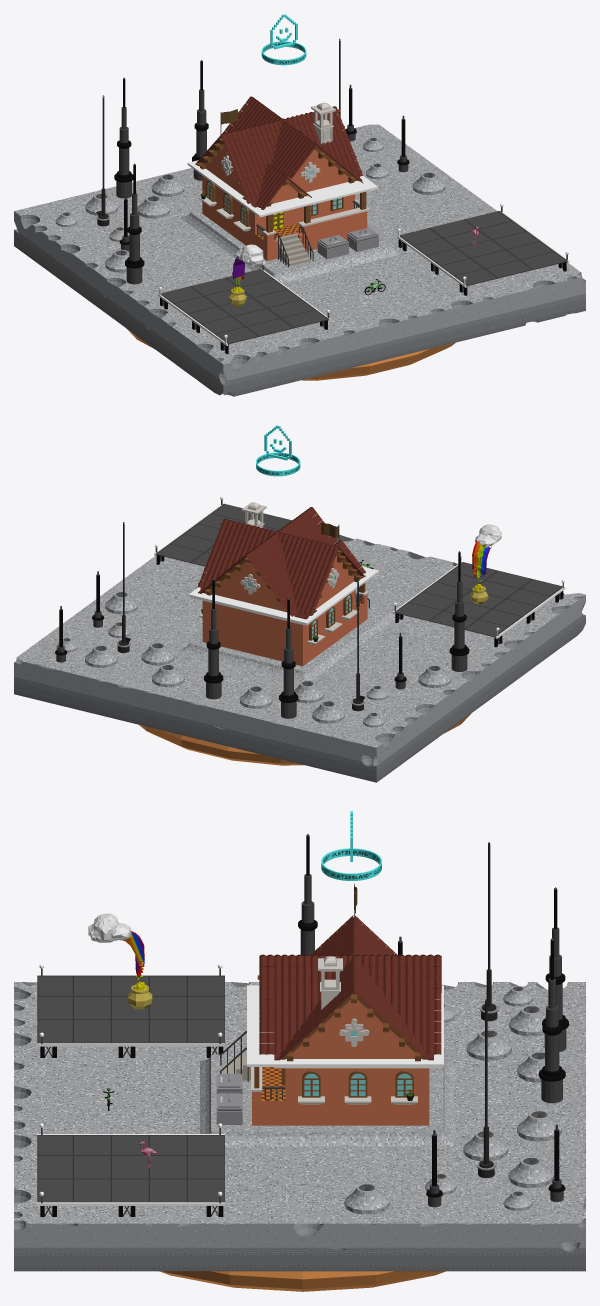
3 renders of one model, top to bottom at view 1: azimuth 30°, elevation 25°; view 2: azimuth 150°, elevation 25°; view 3: azimuth 270°, elevation 25°, orthographic. The views are drawn at different scales.
Parts seen in each view (by area): view 1: Cube.027, Cube.1141, Cube.026, Cube.025, Cube.028, UNDERGROUND_PIZZA, Cylinder.021, Cylinder.020, OBJRANDOM_RAINBOW, TYPE_PREMIUM, Cylinder.017, Cube.029 (+5 smaller); view 2: Cube.027, Cube.1141, Cube.025, Cube.028, Cube.026, UNDERGROUND_PIZZA, OBJRANDOM_RAINBOW, Cylinder.021, Cylinder.020, Cylinder.017, TYPE_PREMIUM, Cylinder.030 (+7 smaller); view 3: Cube.027, Cube.1141, Cube.026, Cube.025, Cube.028, UNDERGROUND_PIZZA, Cylinder.017, OBJRANDOM_RAINBOW, Cylinder.020, Cylinder.021, TYPE_PREMIUM, Cylinder.033 (+10 smaller).
Part boxes in pixels (<box>): Cube.027: <box>14,124,585,396</box>; Cube.1141: <box>187,96,377,267</box>; Cube.026: <box>397,203,569,295</box>; Cube.025: <box>158,262,330,353</box>; Cube.028: <box>181,209,400,283</box>; UNDERGROUND_PIZZA: <box>126,328,455,380</box>; Cylinder.021: <box>125,163,144,284</box>; Cylinder.020: <box>114,77,133,198</box>; OBJRANDOM_RAINBOW: <box>228,244,264,306</box>; TYPE_PREMIUM: <box>261,14,306,65</box>; Cylinder.017: <box>192,60,208,180</box>; Cube.029: <box>317,235,348,259</box>; Cube.027: <box>14,534,585,782</box>; Cube.1141: <box>188,502,379,666</box>; Cube.025: <box>393,555,565,647</box>; Cube.028: <box>179,604,395,682</box>; Cube.026: <box>154,496,325,566</box>; UNDERGROUND_PIZZA: <box>139,714,470,765</box>; OBJRANDOM_RAINBOW: <box>470,524,501,604</box>; Cylinder.021: <box>449,551,469,671</box>; Cylinder.020: <box>279,598,298,718</box>; Cylinder.017: <box>204,578,223,699</box>; TYPE_PREMIUM: <box>256,425,300,476</box>; Cylinder.030: <box>141,642,174,665</box>; Cube.027: <box>14,982,585,1271</box>; Cube.1141: <box>220,883,443,1125</box>; Cube.026: <box>37,1123,224,1216</box>; Cube.025: <box>37,964,224,1057</box>; Cube.028: <box>200,1054,454,1146</box>; UNDERGROUND_PIZZA: <box>159,1271,445,1291</box>; Cylinder.017: <box>538,938,565,1103</box>; OBJRANDOM_RAINBOW: <box>88,913,152,1009</box>; Cylinder.020: <box>542,887,568,1051</box>; Cylinder.021: <box>298,834,317,955</box>; TYPE_PREMIUM: <box>321,811,381,880</box>; Cylinder.033: <box>344,1183,389,1214</box>.
Size of the model in its own units: 4000 by 2915 by 4000.
Materials: 51 (5 with a texture image).
